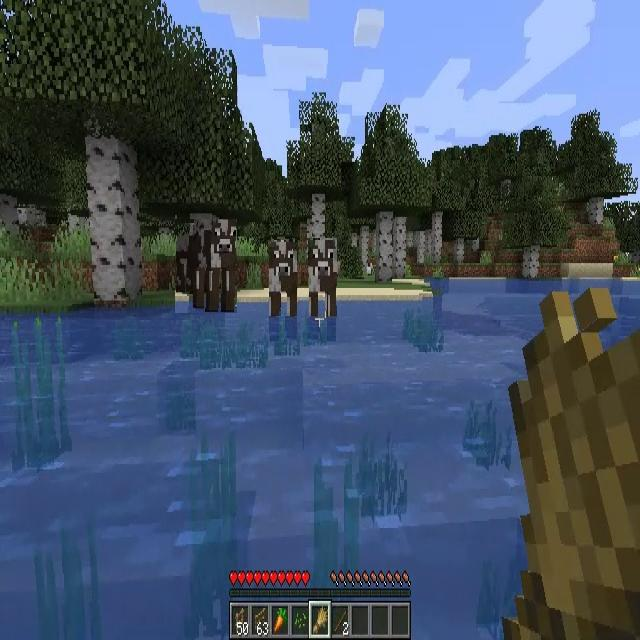cow: (175, 220, 238, 314), (308, 238, 337, 318), (268, 239, 298, 316)
duck: (366, 264, 374, 280)
